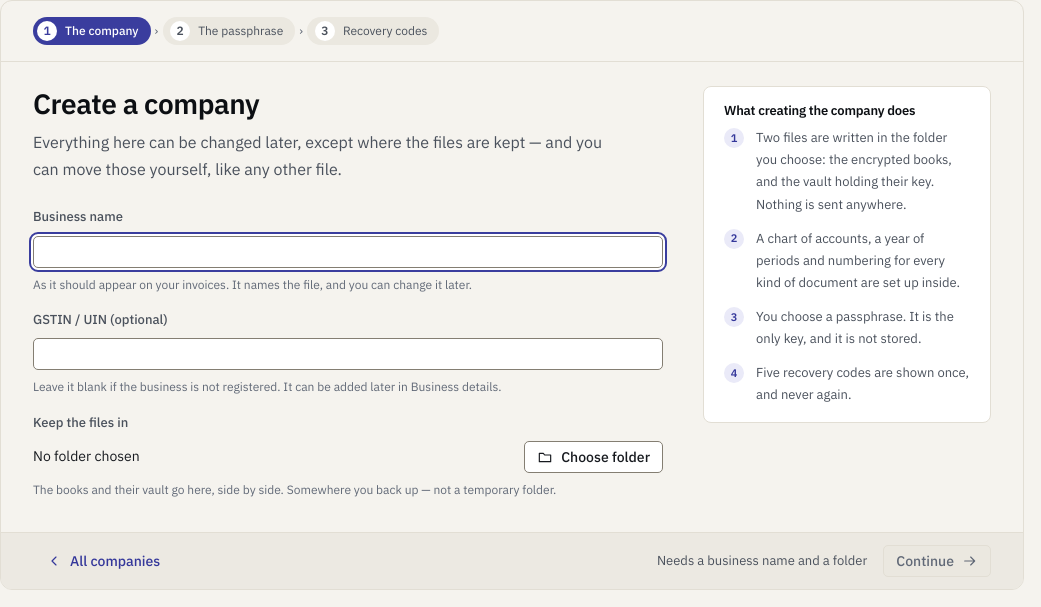
Test: the company step › will not continue without a name and a folder, and says so beside the button
Expected: the button "Continue" is disabled, [883,545,991,577]
Expected: the text "Needs a business name and a folder" is shown, [657,550,867,571]
Type "  Sharma Traders  " into the field labelled "Business name" at (348, 252), box [33,236,663,268]
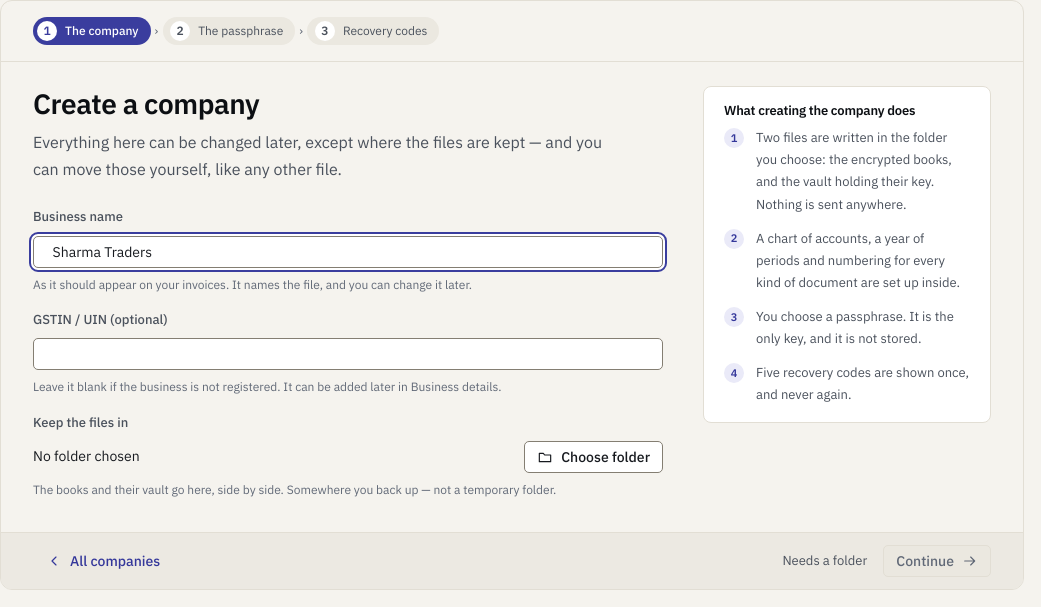
Click the button "Choose folder" at (594, 457), box [524,441,663,473]
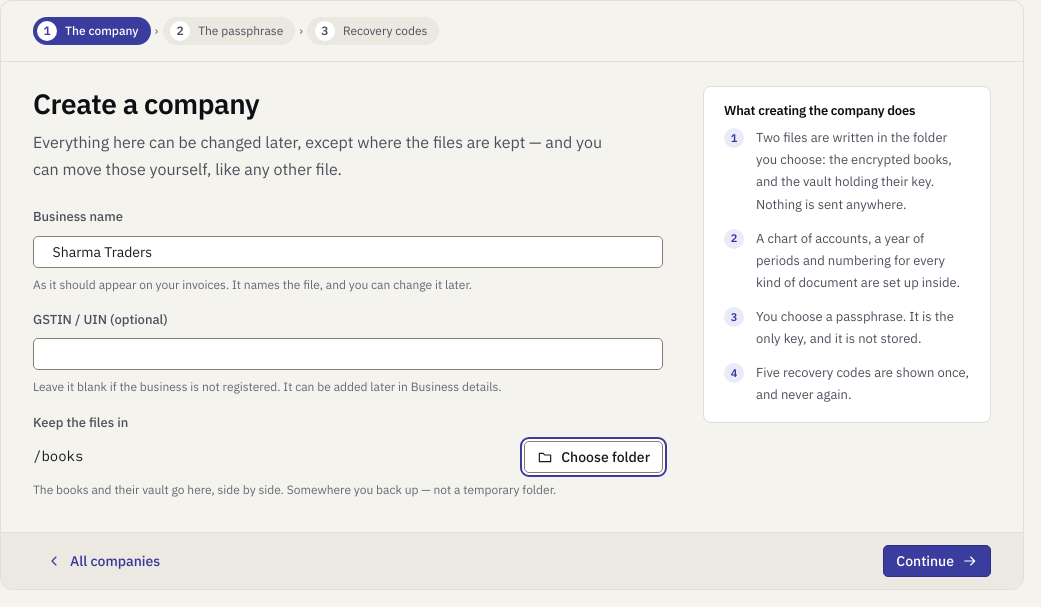
Expected: the text "/books" is shown, [33,447,83,465]
Expected: the button "Continue" is enabled, [883,545,991,577]
Expected: the text "Needs" is gone
